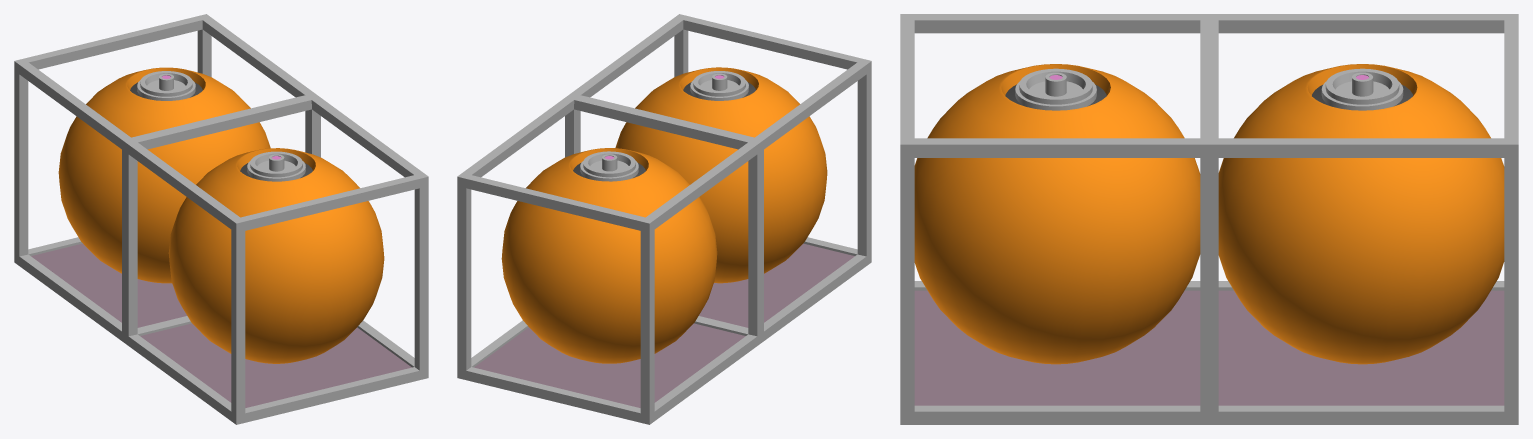
File: SmallBarrel02.fbx
3 renders of one model, left to right at view 1: azimuth 30°, elevation 25°; view 2: azimuth 150°, elevation 25°; view 3: azimuth 270°, elevation 25°, orthographic. The views are drawn at different scales.
Visible parts, largest first — view 1: SM_SmallBarrel02; view 2: SM_SmallBarrel02; view 3: SM_SmallBarrel02.
Boxes of the visible parts, bbox=[...] form: SM_SmallBarrel02: bbox=[14, 14, 428, 424]; SM_SmallBarrel02: bbox=[457, 14, 871, 424]; SM_SmallBarrel02: bbox=[900, 14, 1518, 424].
Bounding box in the file's own units: 100 × 101 × 200.
